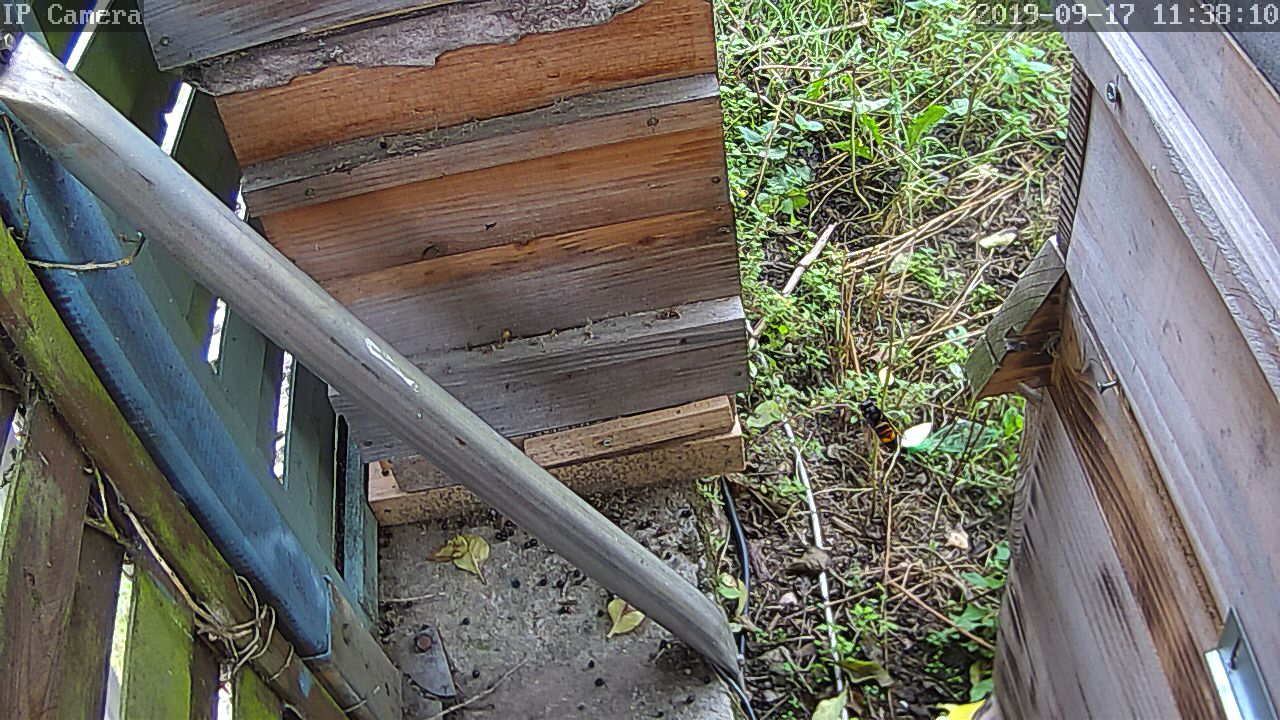hornet: (851, 395, 908, 454)
